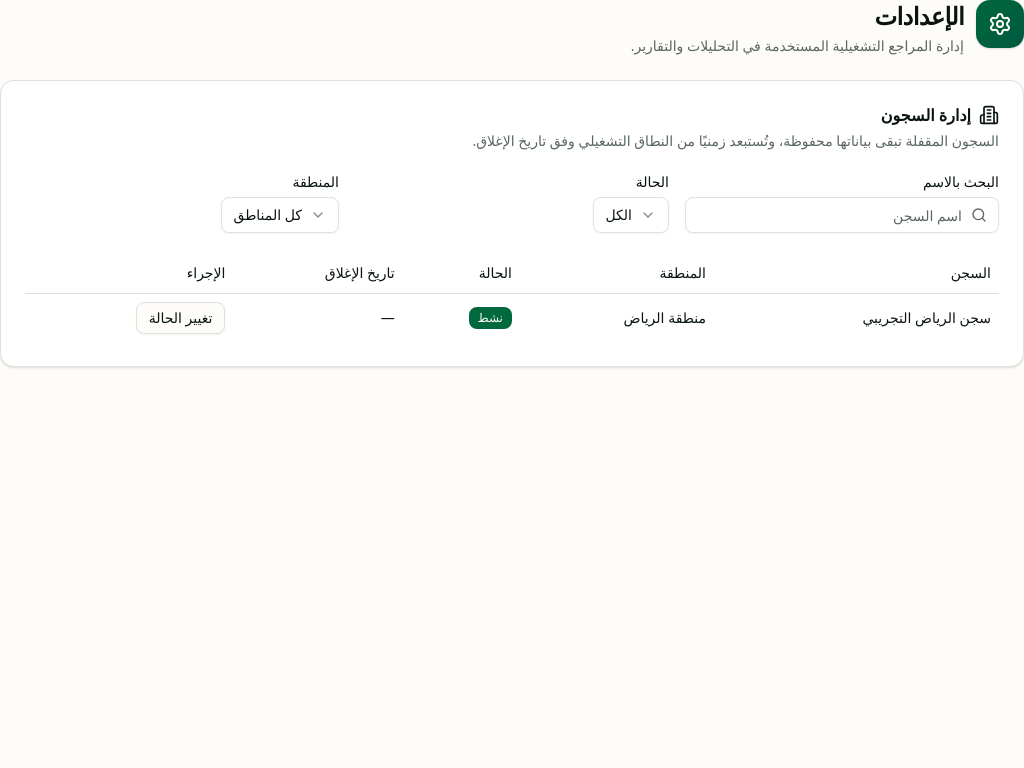
it: Settings facility management › keeps the original state and exposes the API error when saving fails
Click the button "تغيير الحالة": (181, 318) [136,302,225,334]
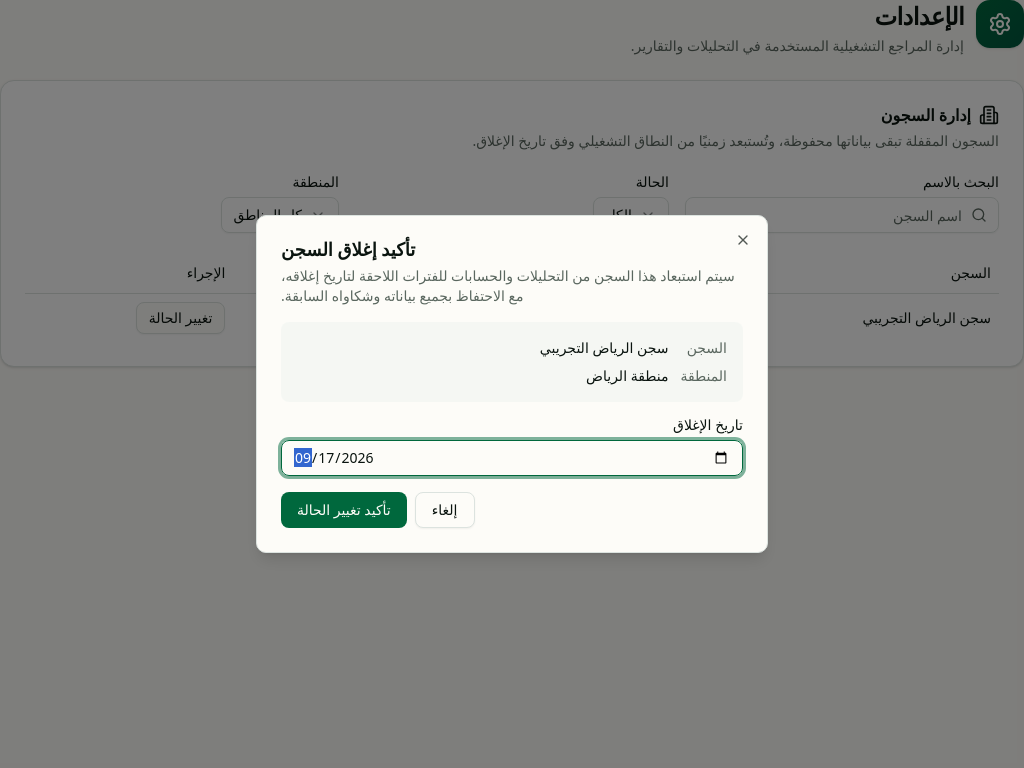
Click the button "تأكيد تغيير الحالة": (344, 510) [281,492,407,528]
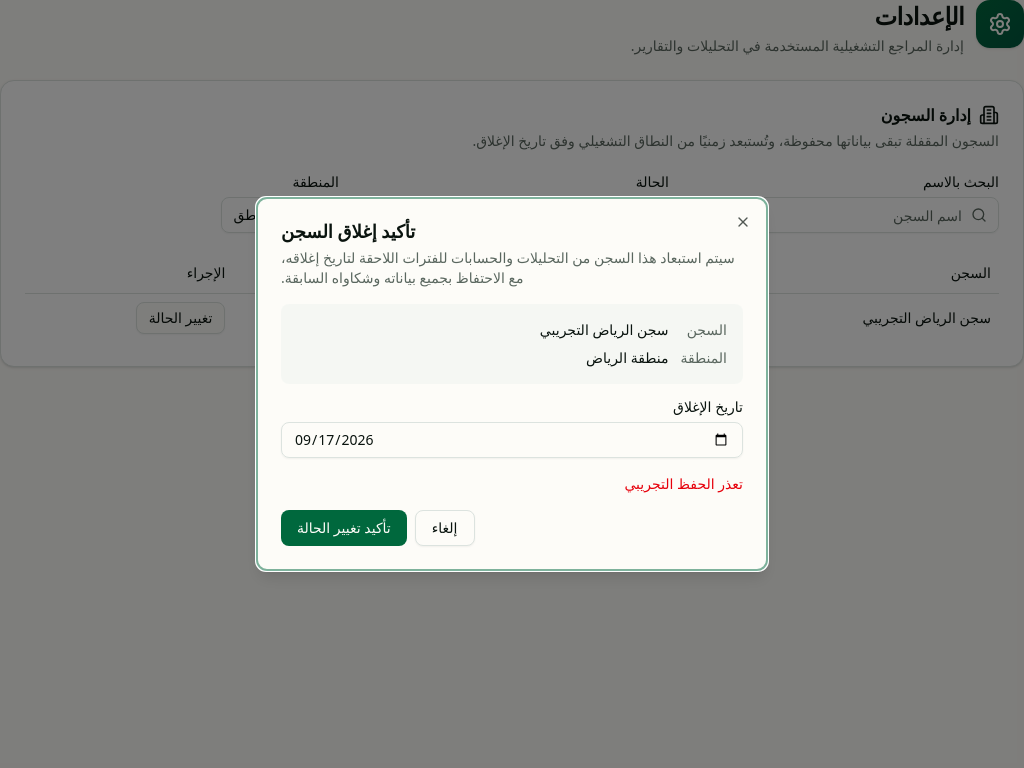
Result: the message reads "تعذر الحفظ التجريبي" at [624,474,743,493]
